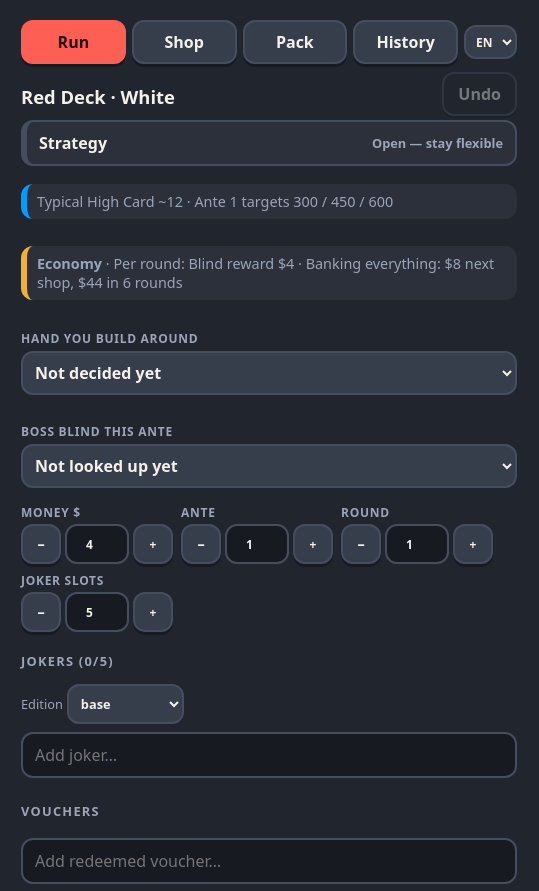
it: shows open advice on a fresh run and commits after two flush jokers
Check: the text "Open — stay flexible" is shown, box x1=372 y1=134 x2=503 y2=152
Type "droll" into the dropdown with placeholder "Add joker…". click: (269, 755)
box: x1=21 y1=732 x2=517 y2=778
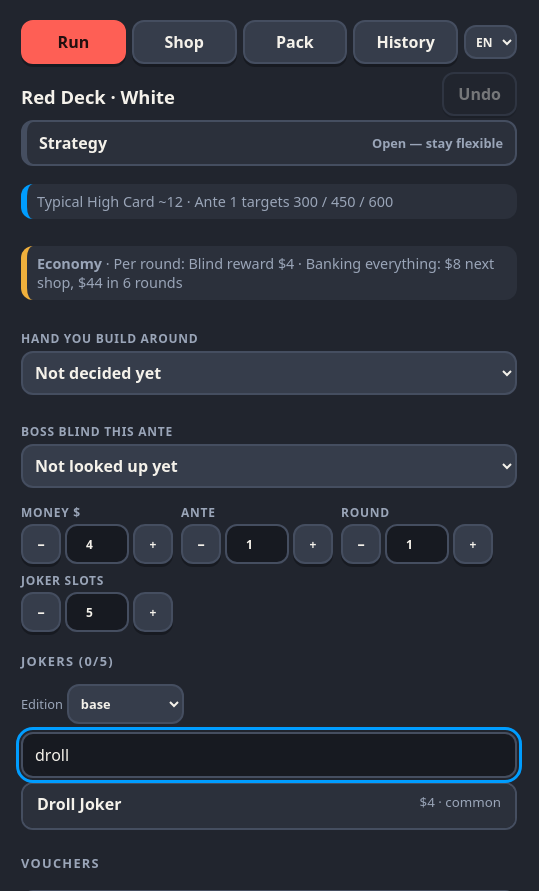
Click the button "Droll Joker $4 · common". click: (79, 804)
box: x1=23 y1=784 x2=515 y2=828
(page scrolled)
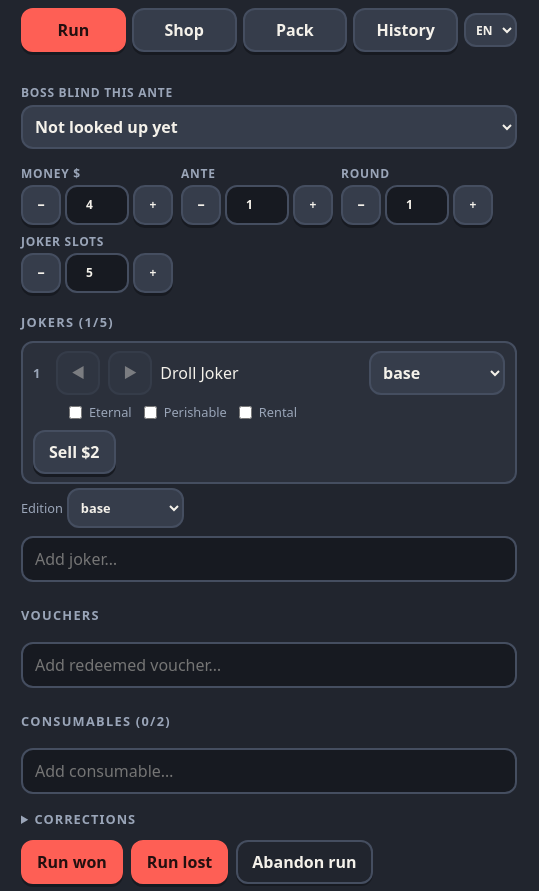
Type "crafty" into the dropdown with placeholder "Add joker…". click: (269, 559)
box: x1=21 y1=536 x2=517 y2=582
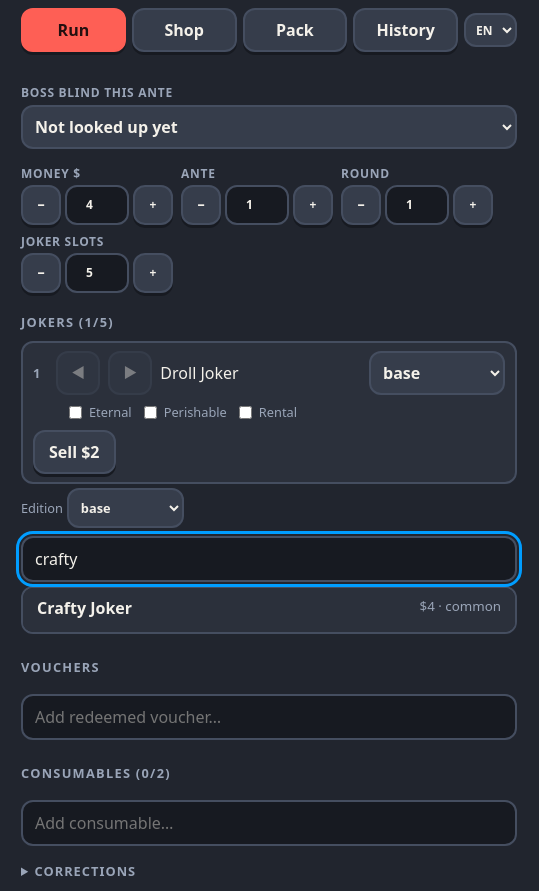
Click the button "Crafty Joker $4 · common". click: (85, 608)
box: x1=23 y1=588 x2=515 y2=632
(page scrolled)
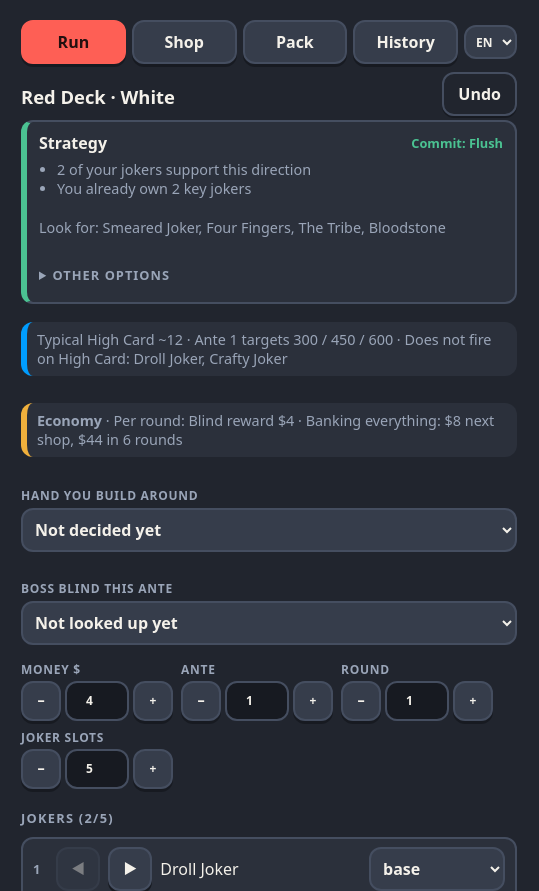
Check: the text "Look for: Smeared Joker, Four Fingers, The Tribe, Bloodstone" is shown, box x1=39 y1=218 x2=503 y2=237
Check: the text "Commit: Flush" is shown, box x1=411 y1=134 x2=503 y2=152
